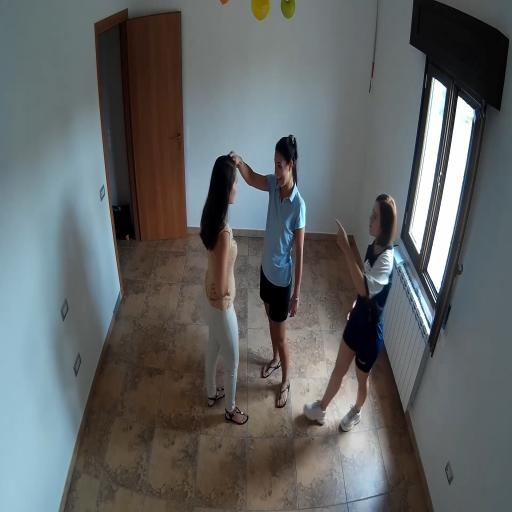nao-violencia: (190, 118, 310, 435)
